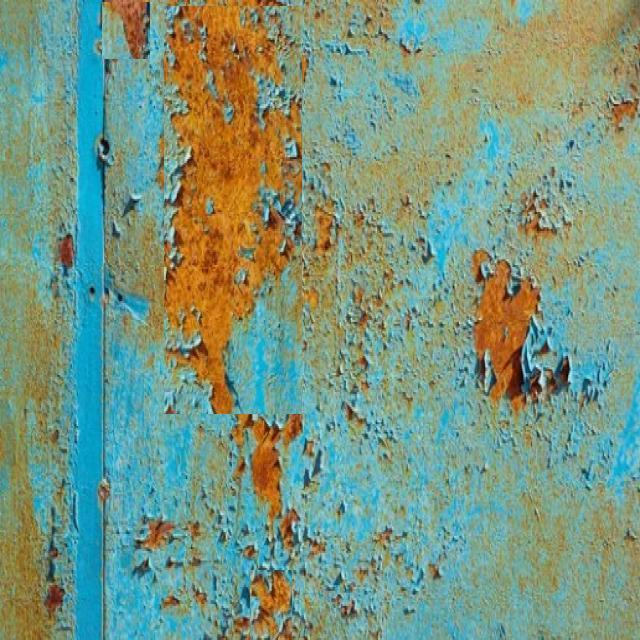Corrosion: (164, 4, 302, 414), (473, 250, 571, 414), (251, 419, 282, 534), (251, 572, 292, 638), (104, 0, 149, 58), (251, 572, 291, 616), (136, 520, 175, 552), (280, 510, 300, 550), (613, 98, 638, 128), (43, 585, 64, 616), (58, 233, 74, 270), (97, 479, 110, 504)
